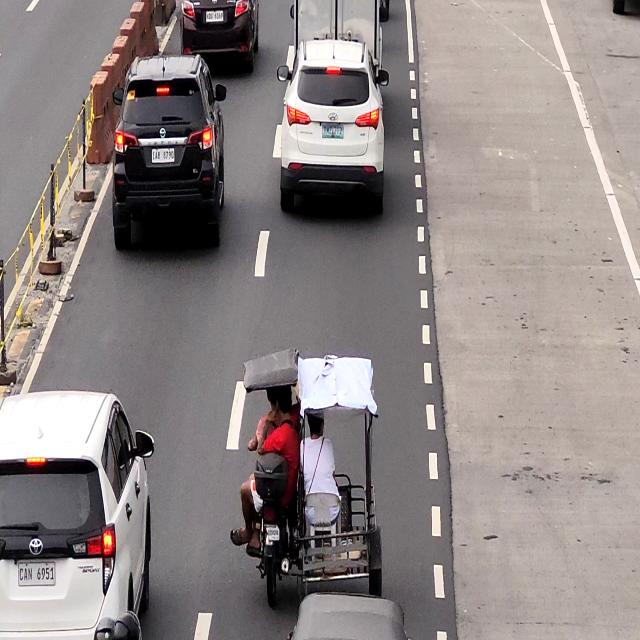Car: (0, 388, 153, 640), (110, 52, 228, 249), (277, 42, 384, 214), (177, 0, 263, 69)
License-Plate: (17, 560, 56, 586), (148, 143, 177, 167), (322, 123, 345, 139), (205, 11, 223, 24)
Tricycle: (237, 349, 389, 592)
